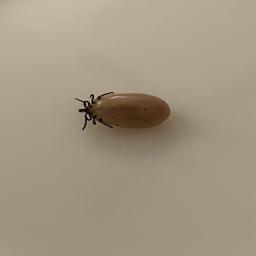Ixodes scapularis: (73, 90, 170, 131)
